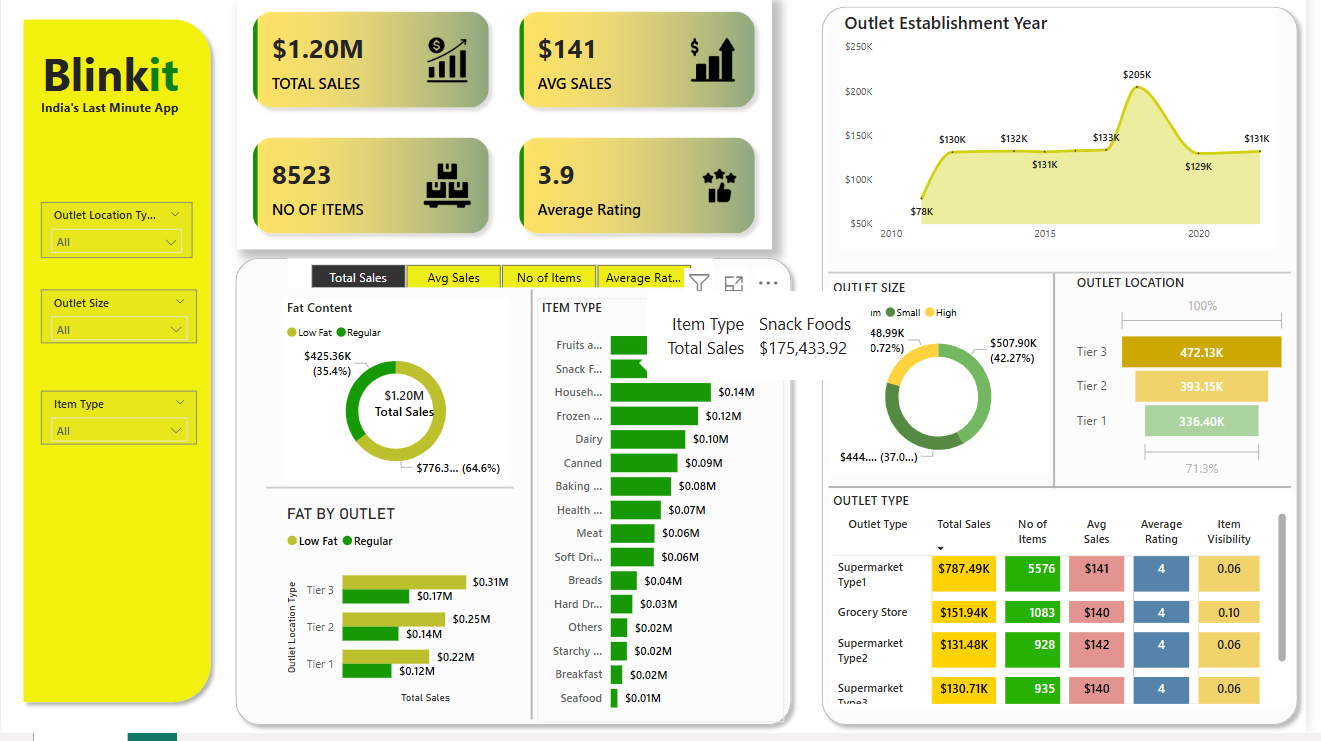

What the dashboard file says about the page in this screenshot:
{"tool":"powerbi","page":{"name":"Page 1","canvas":[1400,800],"ordinal":0},"visuals":[{"type":"shape","box":[15,25.5,219.1,750.4],"z":0},{"type":"textbox","box":[39,55.5,171.1,75],"z":1000},{"type":"textbox","box":[27,115.6,195.1,30],"z":2000},{"type":"cardVisual","fields":{"Data":["BlinkIT Grocery Data.Total Sales","BlinkIT Grocery Data.Avg Sales","BlinkIT Grocery Data.No of Items","BlinkIT Grocery Data.Average Rating"]},"box":[253.4,9.4,573.7,272.1],"z":3000},{"type":"shape","box":[242.6,281.5,613.9,518.8],"z":4000},{"type":"donutChart","title":" Fat Content","fields":{"Y":["BlinkIT Grocery Data.Total Sales"],"Category":["BlinkIT Grocery Data.Item Fat Content"]},"box":[301.6,333.8,244,197.1],"z":5000},{"type":"slicer","fields":{"Values":["Metrics.Metrics"]},"box":[307,290.9,457.1,30.8],"z":6000},{"type":"cardVisual","fields":{"Data":["BlinkIT Grocery Data.Total Sales"]},"box":[376.7,411.5,112.6,60.3],"z":7000},{"type":"clusteredBarChart","title":"FAT BY OUTLET","fields":{"Y":["BlinkIT Grocery Data.Total Sales"],"Category":["BlinkIT Grocery Data.Outlet Location Type"],"Series":["BlinkIT Grocery Data.Item Fat Content"]},"box":[301.6,555,248,218.5],"z":8000},{"type":"shape","box":[284.2,532.2,265.4,9.4],"z":9000},{"type":"shape","box":[563,324.4,12.1,461.1],"z":10000},{"type":"barChart","title":"ITEM TYPE","fields":{"Y":["BlinkIT Grocery Data.Total Sales"],"Category":["BlinkIT Grocery Data.Item Type"]},"box":[575.1,333.8,265.4,454.4],"z":11000},{"type":"shape","box":[871.3,12.1,528.2,788.2],"z":12000},{"type":"lineChart","title":" Outlet Establishment Year","fields":{"Category":["BlinkIT Grocery Data.Outlet Establishment Year"],"Y":["BlinkIT Grocery Data.Total Sales"]},"box":[899.5,25.5,467.8,256],"z":13000},{"type":"shape","box":[887.4,530.8,496,10.7],"z":14000},{"type":"donutChart","title":"OUTLET SIZE","fields":{"Y":["BlinkIT Grocery Data.Total Sales"],"Category":["BlinkIT Grocery Data.Outlet Size"]},"box":[887.4,312.3,235.9,209.1],"z":15000},{"type":"shape","box":[1123.3,305.6,12.1,231.9],"z":16000},{"type":"funnel","title":"OUTLET LOCATION","fields":{"Category":["BlinkIT Grocery Data.Outlet Location Type"],"Y":["Sum(BlinkIT Grocery Data.Sales)"]},"box":[1148.8,307,234.6,225.2],"z":17000},{"type":"shape","box":[887.4,300.3,496,12.1],"z":18000},{"type":"pivotTable","title":"OUTLET TYPE","fields":{"Rows":["BlinkIT Grocery Data.Outlet Type"],"Values":["BlinkIT Grocery Data.Total Sales","BlinkIT Grocery Data.No of Items","BlinkIT Grocery Data.Avg Sales","BlinkIT Grocery Data.Average Rating","Avg(BlinkIT Grocery Data.Item Visibility)"]},"box":[887.4,541.6,496,231.9],"z":19000},{"type":"slicer","fields":{"Values":["BlinkIT Grocery Data.Outlet Location Type"]},"box":[42.9,230.6,162.2,60.3],"z":20000},{"type":"slicer","fields":{"Values":["BlinkIT Grocery Data.Outlet Size"]},"box":[42.9,324.4,167.6,57.6],"z":21000},{"type":"slicer","fields":{"Values":["BlinkIT Grocery Data.Item Type"]},"box":[42.9,433,167.6,57.6],"z":22000}]}

Visuals, with their boxes in screenshot pixels (x1, y1, x2, y2), scaled from the page's 1400x800 canvas onto the 1321x741 screenshot:
shape: (x1=14, y1=24, x2=221, y2=719)
textbox: (x1=37, y1=51, x2=198, y2=121)
textbox: (x1=25, y1=107, x2=210, y2=135)
cardVisual - BlinkIT Grocery Data.Total Sales x BlinkIT Grocery Data.Avg Sales: (x1=239, y1=9, x2=780, y2=261)
shape: (x1=229, y1=261, x2=808, y2=740)
" Fat Content" donutChart: (x1=285, y1=309, x2=515, y2=492)
slicer - Metrics.Metrics: (x1=290, y1=269, x2=721, y2=298)
cardVisual - BlinkIT Grocery Data.Total Sales: (x1=355, y1=381, x2=462, y2=437)
"FAT BY OUTLET" clusteredBarChart: (x1=285, y1=514, x2=519, y2=716)
shape: (x1=268, y1=493, x2=519, y2=502)
shape: (x1=531, y1=300, x2=543, y2=728)
"ITEM TYPE" barChart: (x1=543, y1=309, x2=793, y2=730)
shape: (x1=822, y1=11, x2=1320, y2=740)
" Outlet Establishment Year" lineChart: (x1=849, y1=24, x2=1290, y2=261)
shape: (x1=837, y1=492, x2=1305, y2=502)
"OUTLET SIZE" donutChart: (x1=837, y1=289, x2=1060, y2=483)
shape: (x1=1060, y1=283, x2=1071, y2=498)
"OUTLET LOCATION" funnel: (x1=1084, y1=284, x2=1305, y2=493)
shape: (x1=837, y1=278, x2=1305, y2=289)
"OUTLET TYPE" pivotTable: (x1=837, y1=502, x2=1305, y2=716)
slicer - BlinkIT Grocery Data.Outlet Location Type: (x1=40, y1=214, x2=194, y2=269)
slicer - BlinkIT Grocery Data.Outlet Size: (x1=40, y1=300, x2=199, y2=354)
slicer - BlinkIT Grocery Data.Item Type: (x1=40, y1=401, x2=199, y2=454)
